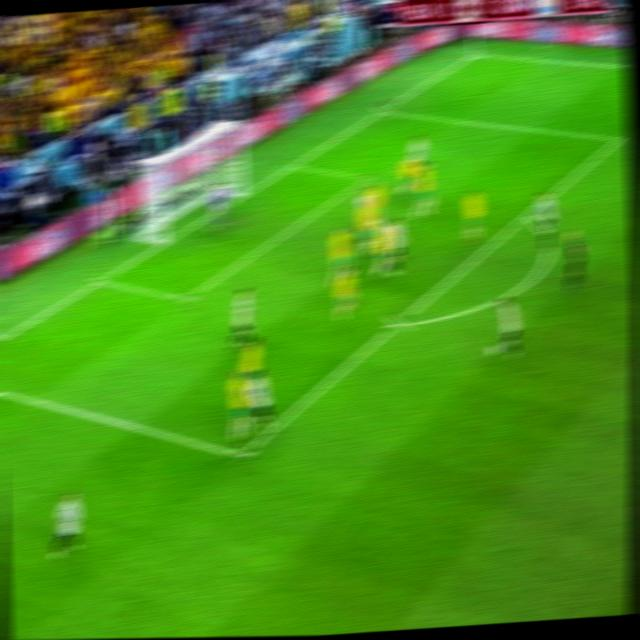bigarea_bottom_inner: (228, 440, 256, 469)
bigarea_top_inner: (606, 125, 632, 150)
bigarea_top_outter: (372, 100, 395, 121)
bottom_arc_area_intersection: (384, 309, 412, 337)
corner: (462, 46, 488, 61)
smallarea_bottom_inner: (171, 283, 201, 314)
smallarea_bottom_outter: (88, 269, 113, 290)
smallarea_top_inner: (355, 165, 380, 190)
smallarea_top_outter: (281, 154, 306, 177)
top_arc_area_intersection: (515, 201, 542, 228)
